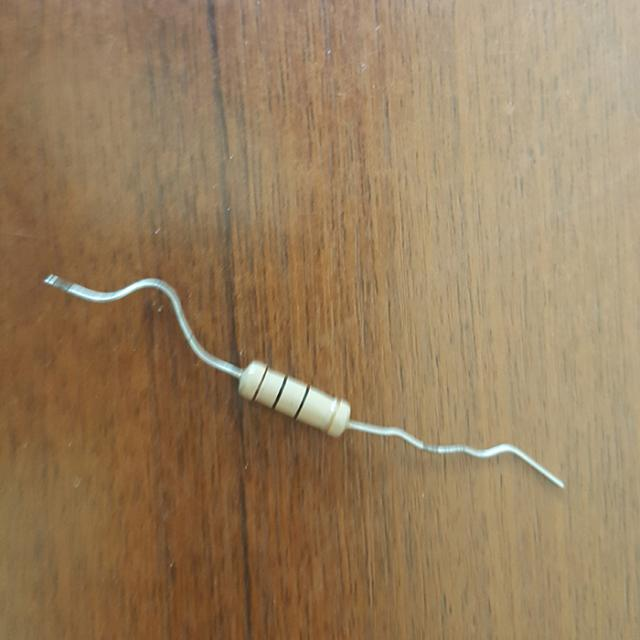black: (271, 377, 287, 410), (293, 387, 309, 419)
brown: (251, 366, 267, 401)
gold: (325, 399, 340, 432)
resistor: (226, 346, 362, 453)
